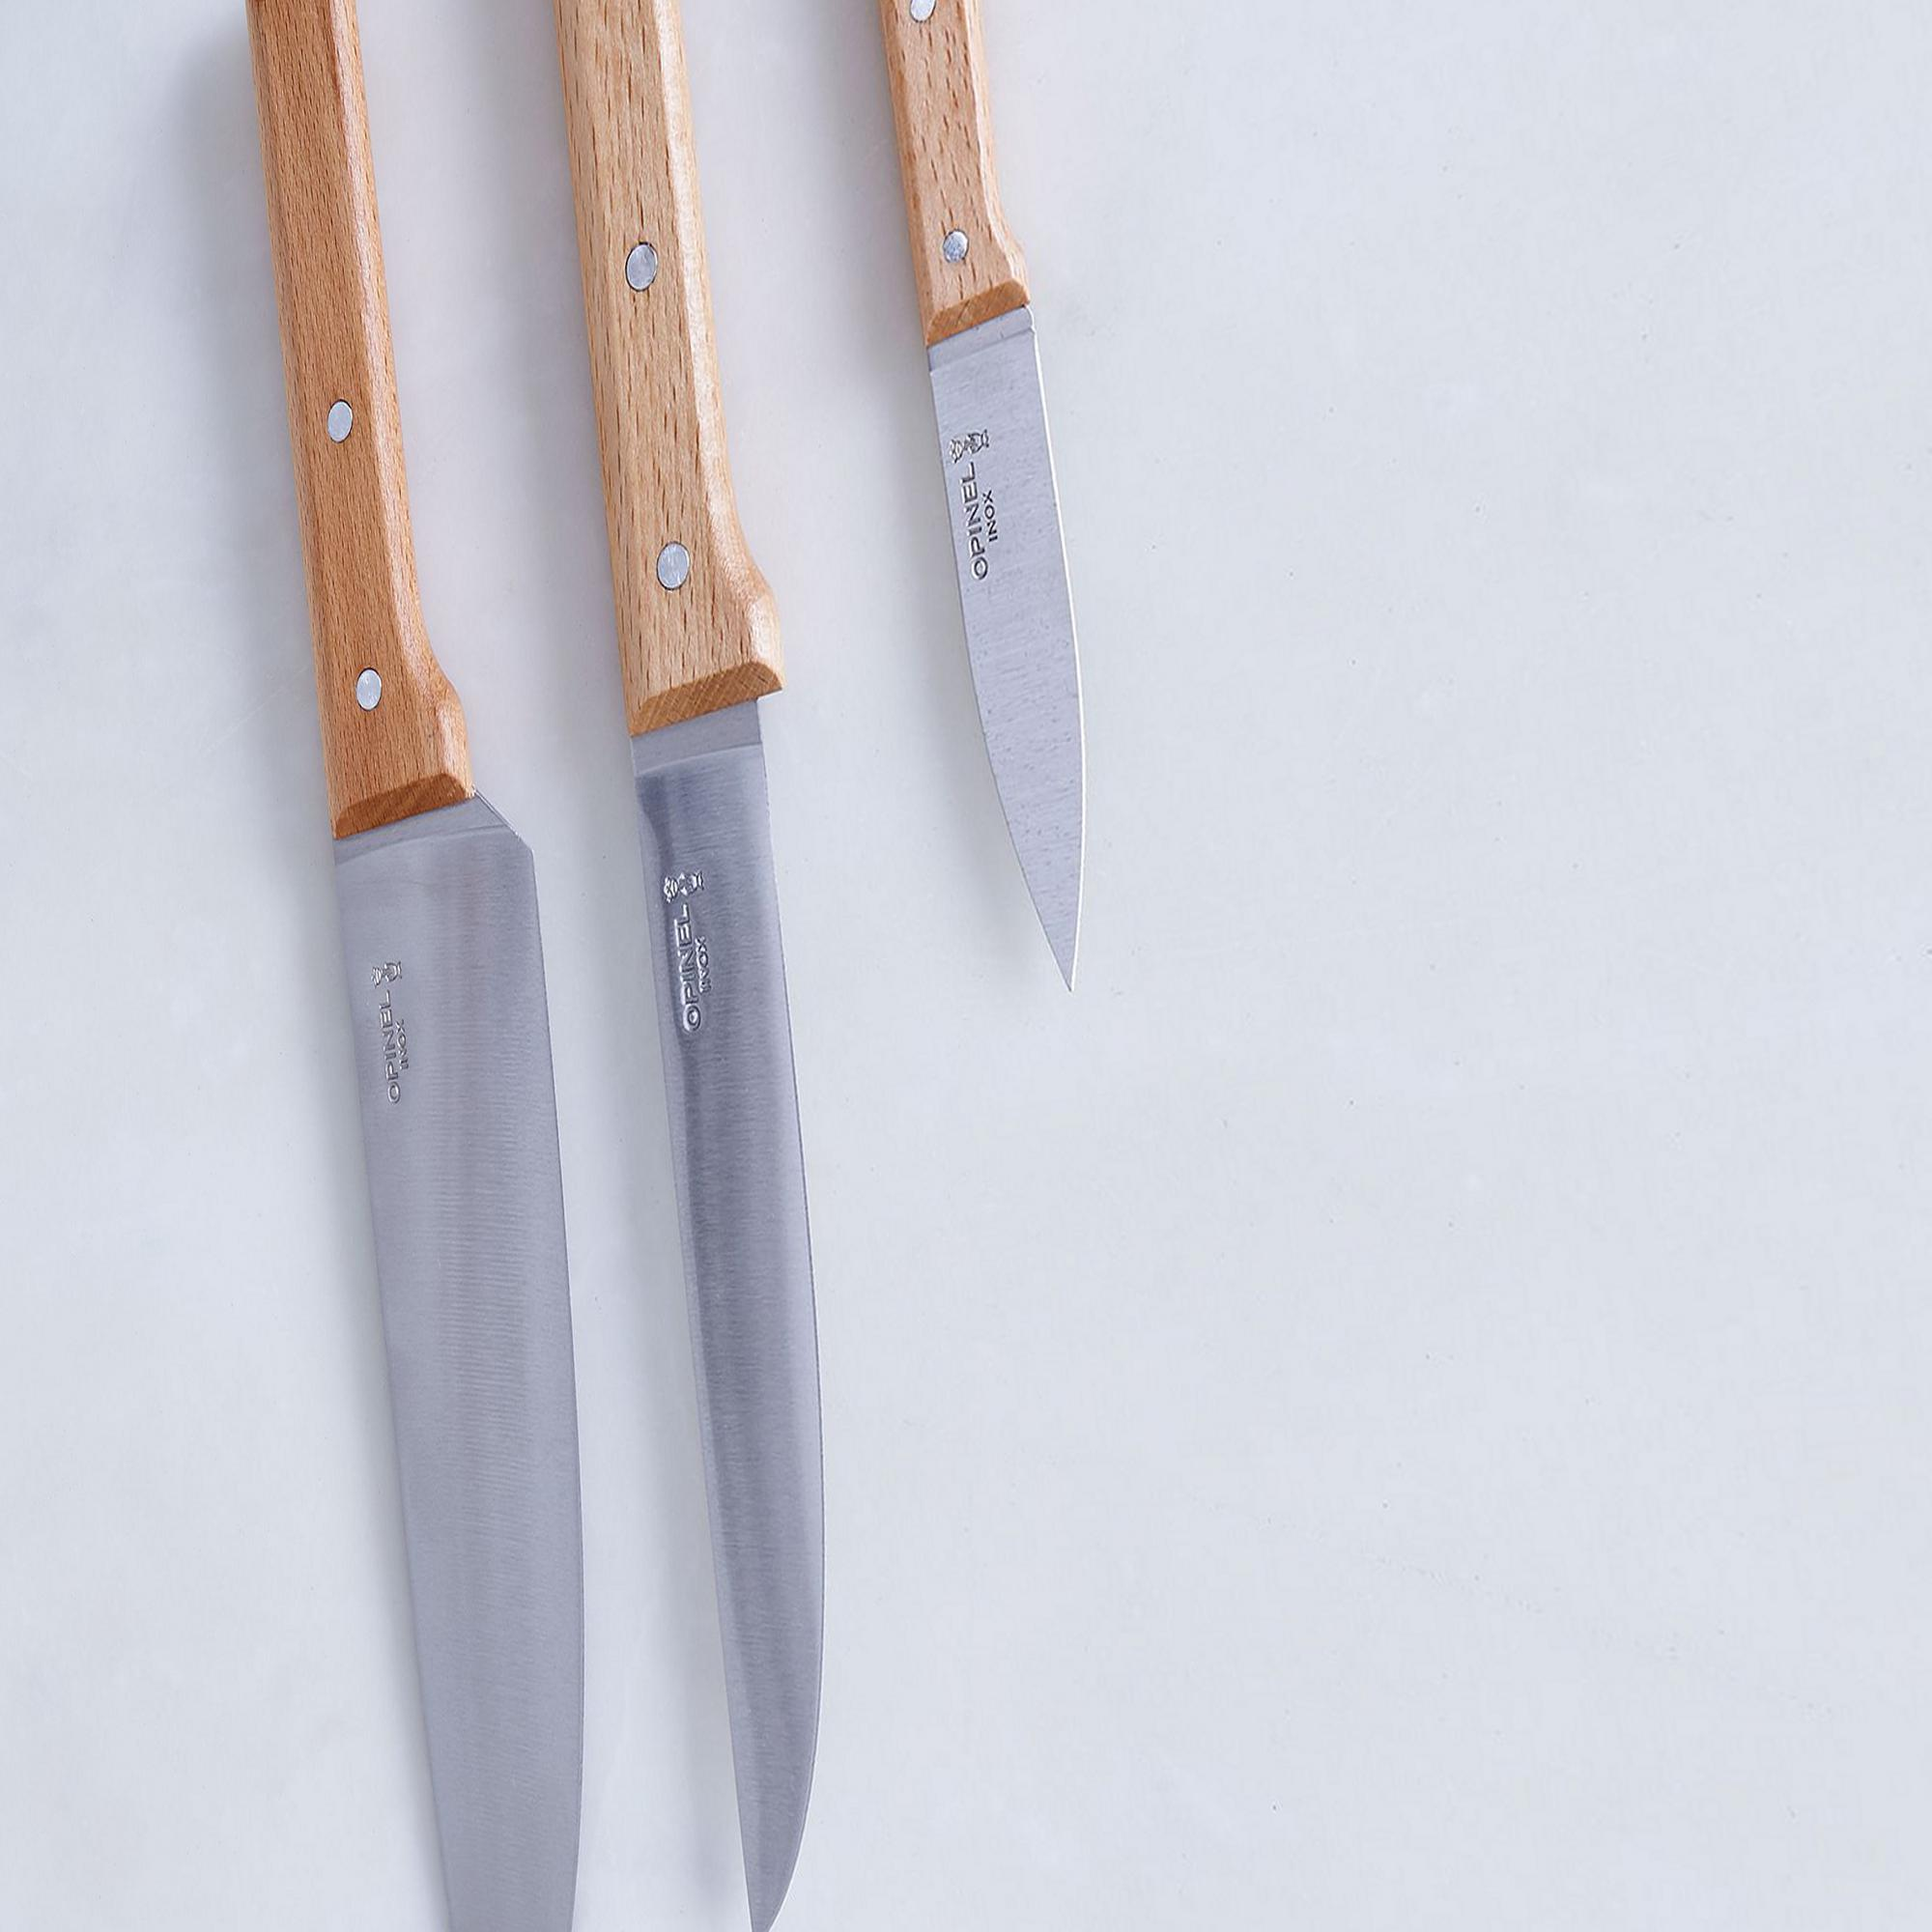knife: (244, 2, 589, 1932), (545, 11, 821, 1932), (870, 2, 1093, 991)
